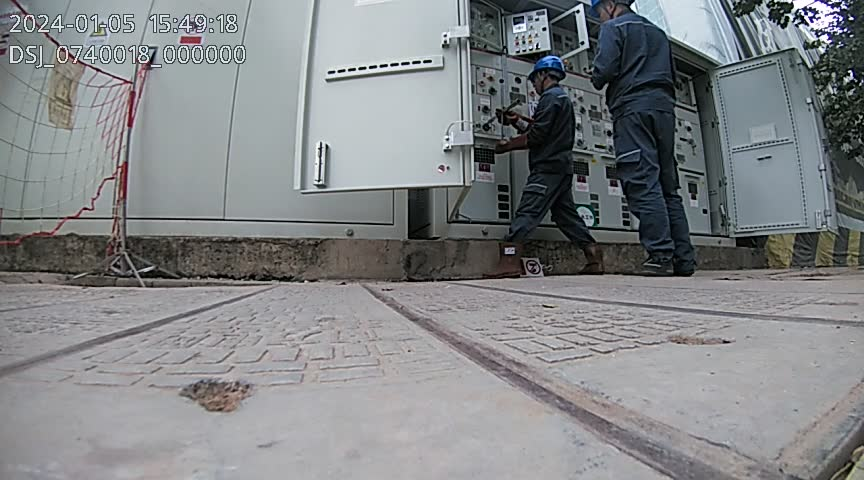downsuit: (611, 101, 694, 255), (505, 167, 594, 247)
halt: (530, 55, 566, 90), (589, 1, 634, 21)
inear: (603, 1, 620, 17)
longglove: (492, 106, 530, 155)
person: (586, 1, 700, 276), (503, 52, 602, 276)
upsuit: (589, 13, 675, 95), (524, 88, 577, 164)
